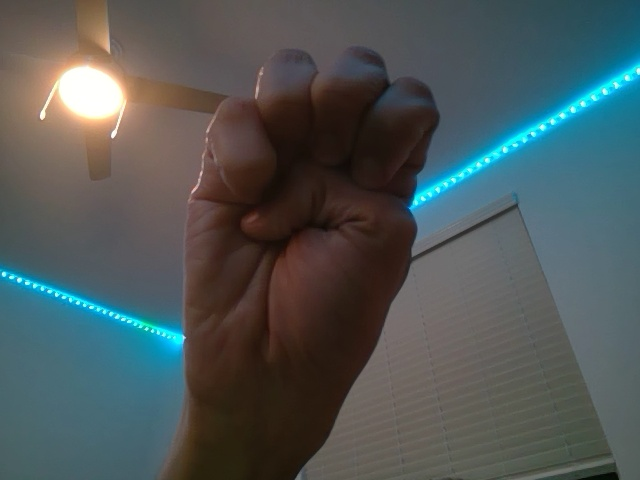e: (182, 44, 442, 439)
